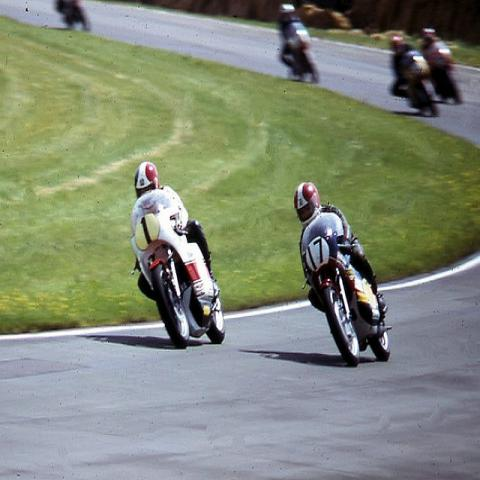motorcycle: (131, 190, 226, 349), (297, 214, 395, 360), (389, 36, 441, 107), (421, 39, 465, 105), (284, 18, 317, 80), (59, 0, 93, 35)
